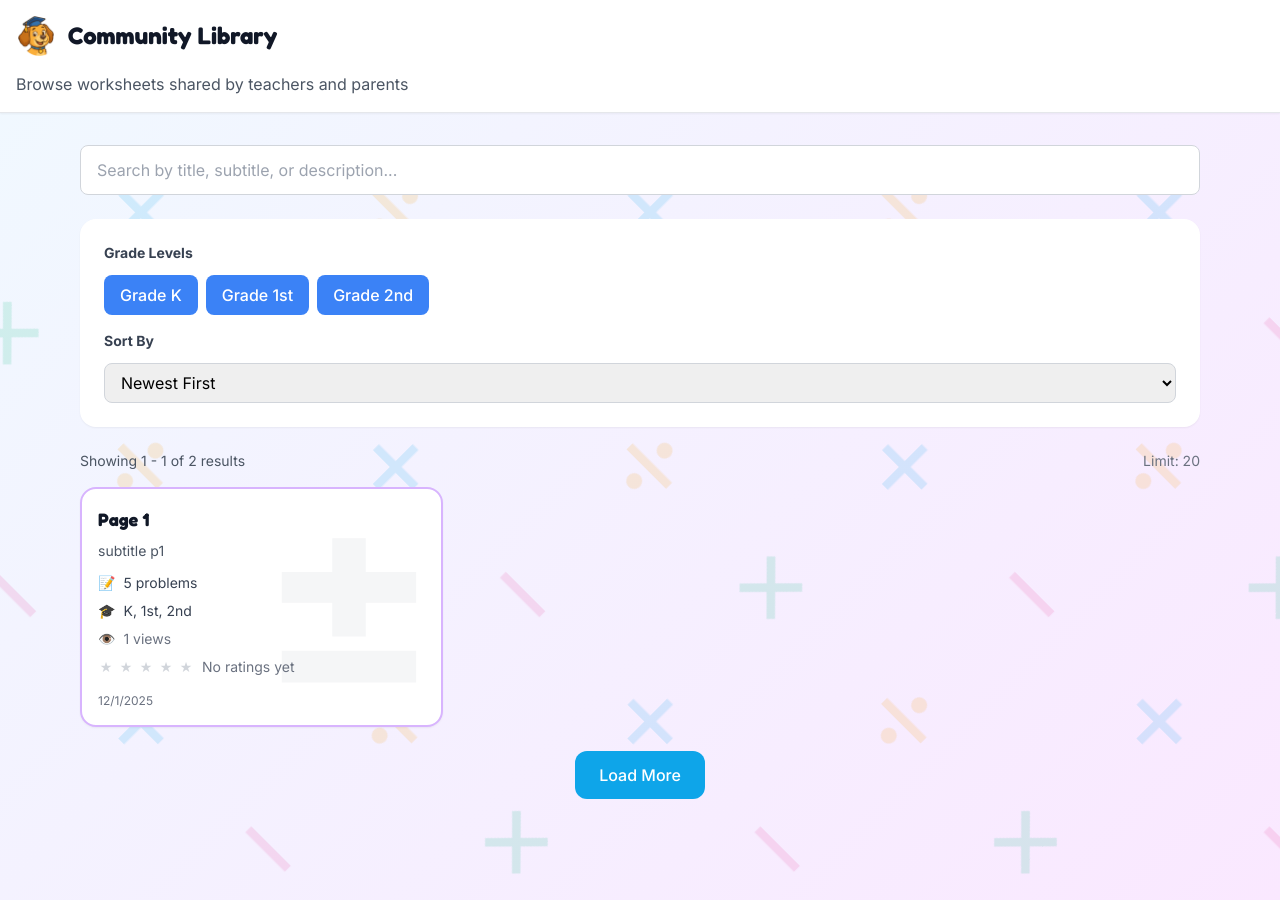
Test: SharedWorksheets UI › loads more results when Load More is clicked
The width and height of the screenshot is (1280, 900).
Check: the heading "Page 1" is shown, box [98, 508, 149, 530]
// Load More should appear
Step 1. Click the button "Load More" → (640, 775), box [575, 751, 705, 799]
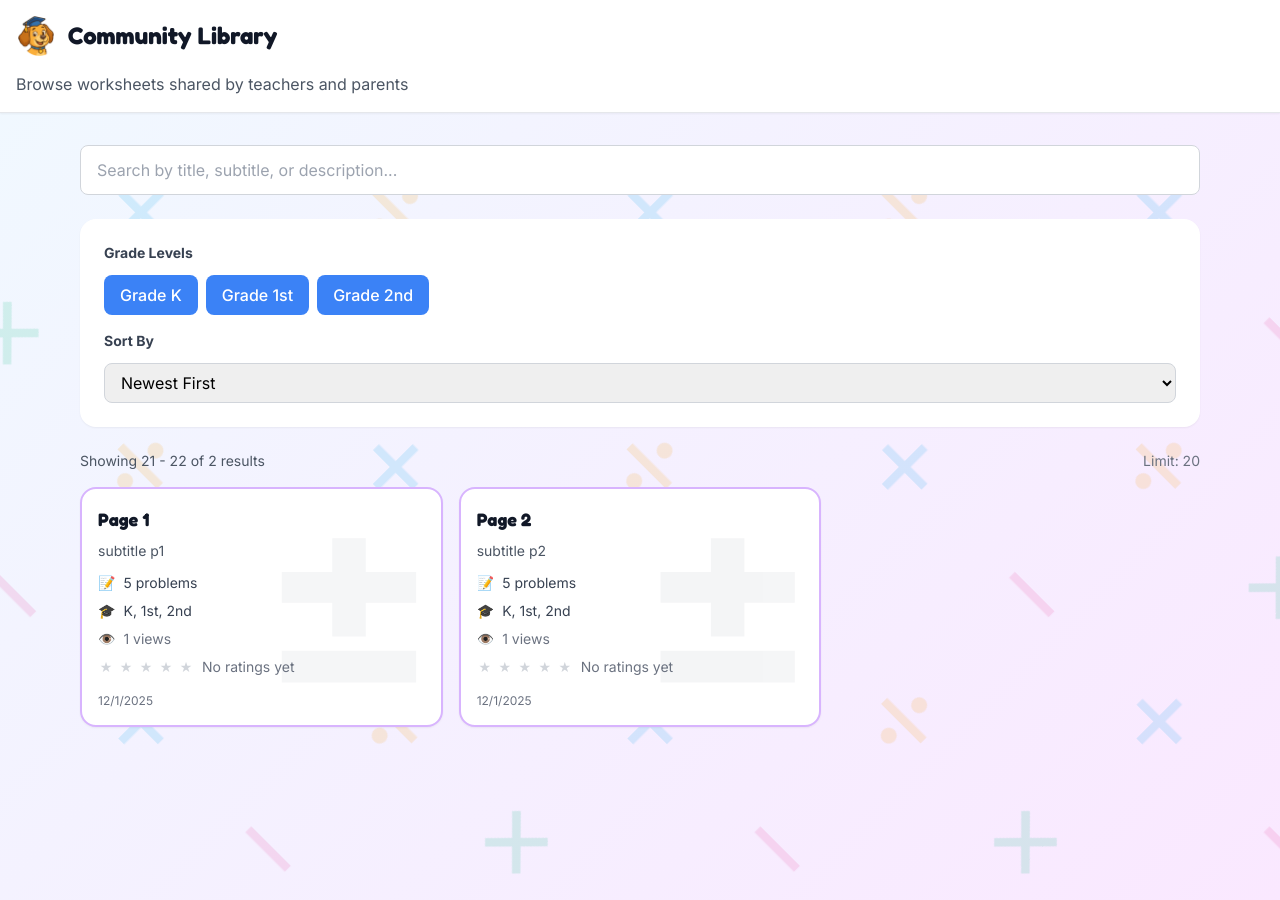
Check: the heading "Page 1" is shown, box [98, 508, 149, 530]
Check: the heading "Page 2" is shown, box [477, 508, 531, 530]
